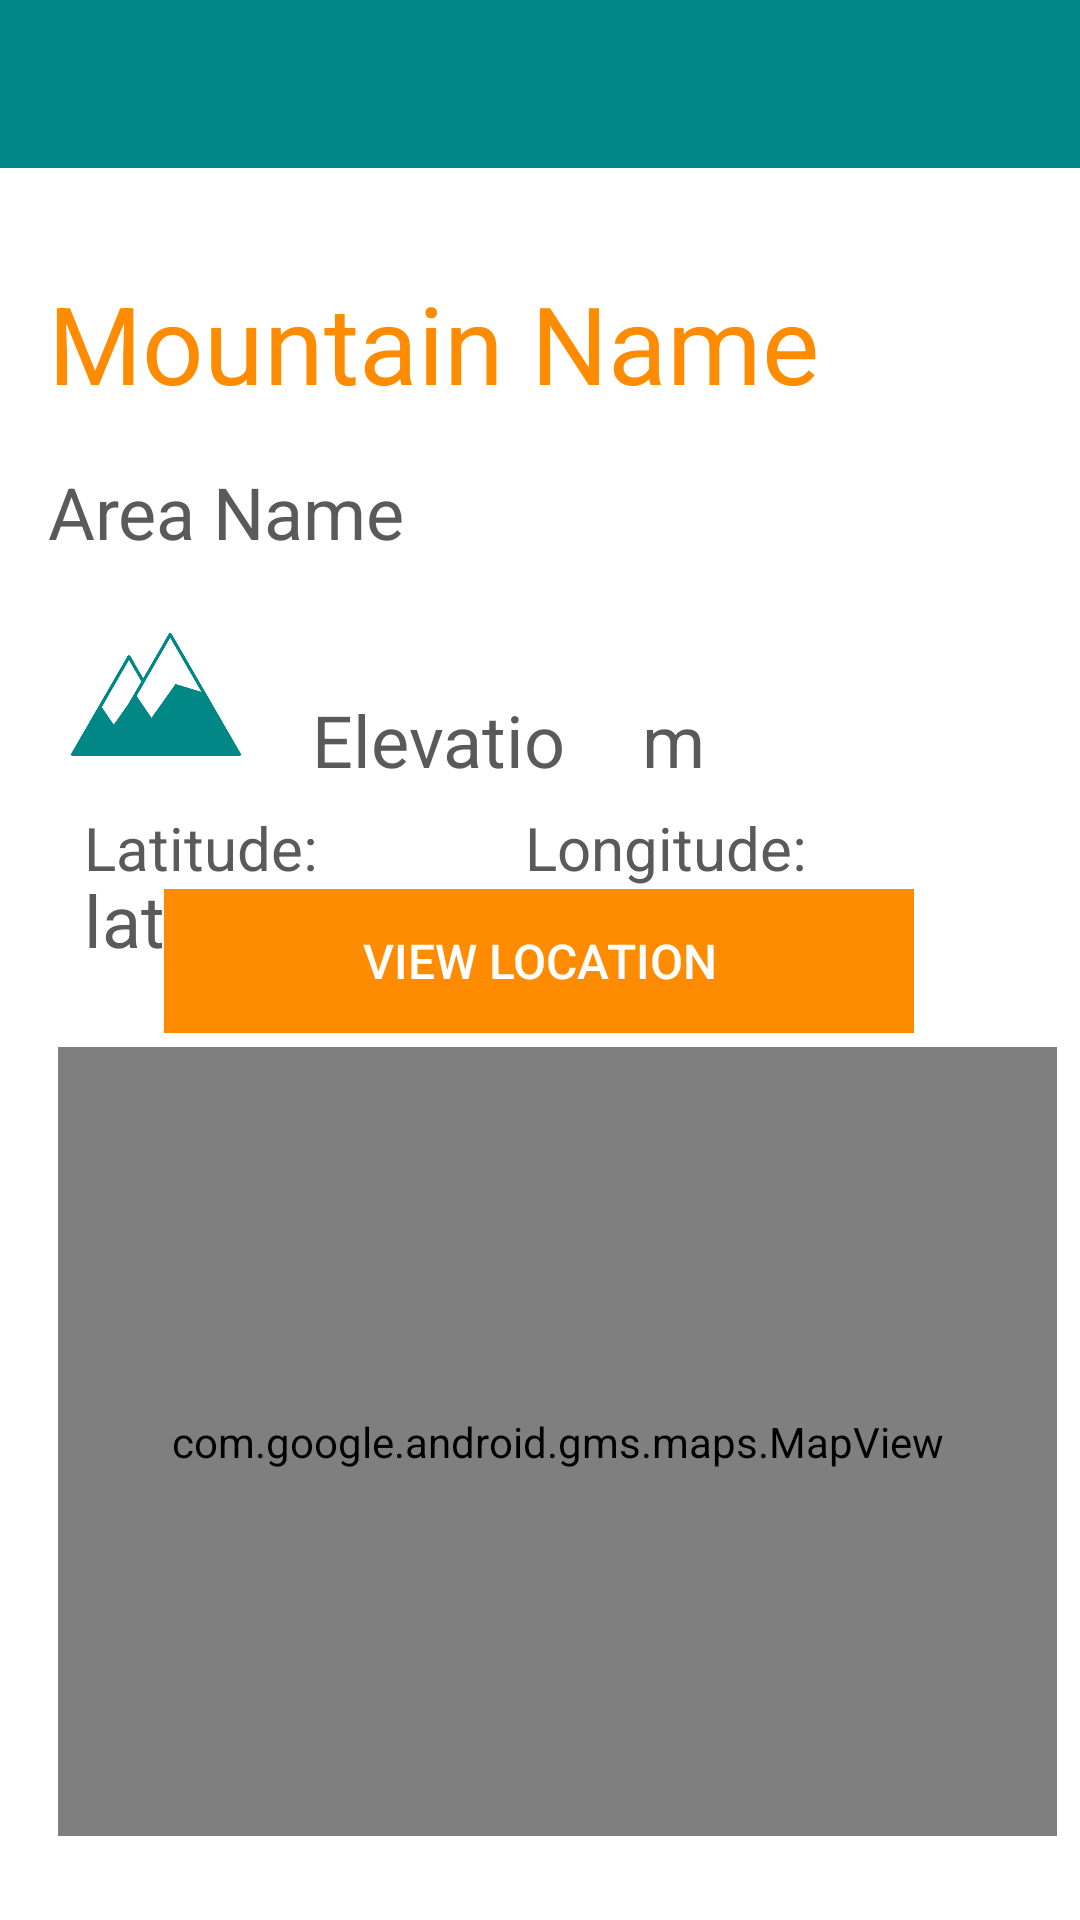

Icons on this 1080w x 1920h Android screen, each with the point to tap as (x=x, y=y):
peak: (x=156, y=694)
